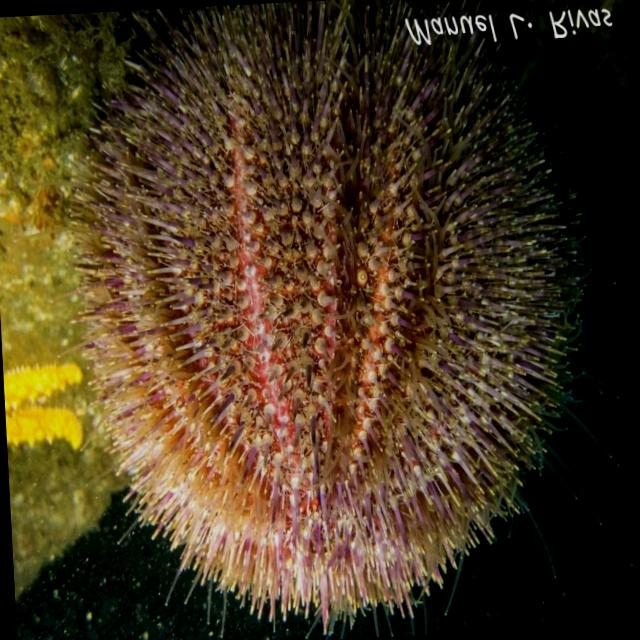Deniz Kestanesi: (34, 0, 635, 640)
